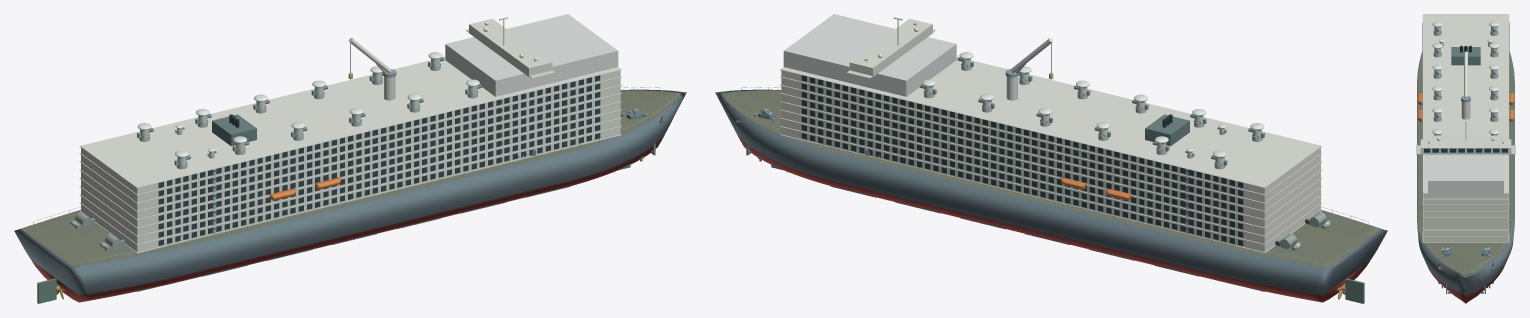
File: ocean-drover.lod1.glb
The picture shows the model from 3 angles, left to right: view 1: azimuth 30°, elevation 25°; view 2: azimuth 150°, elevation 25°; view 3: azimuth 270°, elevation 25°; orthographic projection. The views are drawn at different scales.
Parts seen in each view (by area): view 1: ocean-drover.accommodation.superstructure.deck-8-enclosure.1, ocean-drover.structure.hull.outer-hull-shell.1, ocean-drover.accommodation.livestock-bridge.forward-accommod, ocean-drover.structure.decks.main-strength-deck.1, ocean-drover.structure.hull.antifouling-underwater-shell.1, ocean-drover.accommodation.superstructure.deck-5-enclosure.1, ocean-drover.accommodation.superstructure.deck-2-enclosure.1, ocean-drover.accommodation.superstructure.deck-6-enclosure.1, ocean-drover.accommodation.superstructure.deck-7-enclosure.1, ocean-drover.accommodation.superstructure.deck-1-enclosure.1, ocean-drover.accommodation.superstructure.deck-4-enclosure.1, ocean-drover.accommodation.superstructure.deck-3-enclosure.1 (+11 smaller); view 2: ocean-drover.accommodation.superstructure.deck-8-enclosure.1, ocean-drover.structure.hull.outer-hull-shell.1, ocean-drover.accommodation.livestock-bridge.forward-accommod, ocean-drover.structure.decks.main-strength-deck.1, ocean-drover.structure.hull.antifouling-underwater-shell.1, ocean-drover.accommodation.superstructure.deck-5-enclosure.1, ocean-drover.accommodation.superstructure.deck-2-enclosure.1, ocean-drover.accommodation.superstructure.deck-6-enclosure.1, ocean-drover.accommodation.superstructure.deck-7-enclosure.1, ocean-drover.accommodation.superstructure.deck-1-enclosure.1, ocean-drover.accommodation.superstructure.deck-4-enclosure.1, ocean-drover.accommodation.superstructure.deck-3-enclosure.1 (+11 smaller); view 3: ocean-drover.accommodation.superstructure.deck-8-enclosure.1, ocean-drover.accommodation.livestock-bridge.forward-accommod, ocean-drover.structure.decks.main-strength-deck.1, ocean-drover.structure.hull.outer-hull-shell.1, ocean-drover.navigation.bridge.wheelhouse.1, ocean-drover.accommodation.superstructure.superstructure-wea, ocean-drover.accommodation.superstructure.deck-1-enclosure.1, ocean-drover.accommodation.superstructure.deck-5-enclosure.1, ocean-drover.accommodation.superstructure.deck-2-enclosure.1, ocean-drover.accommodation.superstructure.deck-3-enclosure.1, ocean-drover.accommodation.superstructure.deck-4-enclosure.1, ocean-drover.accommodation.superstructure.deck-6-enclosure.1 (+12 smaller).
Part boxes in pixels (<box>): ocean-drover.accommodation.superstructure.deck-8-enclosure.1: <box>81,57,620,194</box>; ocean-drover.structure.hull.outer-hull-shell.1: <box>14,89,686,295</box>; ocean-drover.accommodation.livestock-bridge.forward-accommod: <box>445,14,618,96</box>; ocean-drover.structure.decks.main-strength-deck.1: <box>21,90,680,267</box>; ocean-drover.structure.hull.antifouling-underwater-shell.1: <box>32,135,664,302</box>; ocean-drover.accommodation.superstructure.deck-5-enclosure.1: <box>81,94,620,219</box>; ocean-drover.accommodation.superstructure.deck-2-enclosure.1: <box>81,119,620,243</box>; ocean-drover.accommodation.superstructure.deck-6-enclosure.1: <box>81,86,620,210</box>; ocean-drover.accommodation.superstructure.deck-7-enclosure.1: <box>81,78,620,202</box>; ocean-drover.accommodation.superstructure.deck-1-enclosure.1: <box>81,127,620,252</box>; ocean-drover.accommodation.superstructure.deck-4-enclosure.1: <box>81,102,620,227</box>; ocean-drover.accommodation.superstructure.deck-3-enclosure.1: <box>81,111,620,235</box>; ocean-drover.accommodation.superstructure.deck-8-enclosure.1: <box>781,57,1320,194</box>; ocean-drover.structure.hull.outer-hull-shell.1: <box>715,89,1387,295</box>; ocean-drover.accommodation.livestock-bridge.forward-accommod: <box>783,14,956,96</box>; ocean-drover.structure.decks.main-strength-deck.1: <box>721,90,1380,267</box>; ocean-drover.structure.hull.antifouling-underwater-shell.1: <box>737,135,1369,302</box>; ocean-drover.accommodation.superstructure.deck-5-enclosure.1: <box>781,94,1320,219</box>; ocean-drover.accommodation.superstructure.deck-2-enclosure.1: <box>781,119,1320,243</box>; ocean-drover.accommodation.superstructure.deck-6-enclosure.1: <box>781,86,1320,210</box>; ocean-drover.accommodation.superstructure.deck-7-enclosure.1: <box>781,78,1320,202</box>; ocean-drover.accommodation.superstructure.deck-1-enclosure.1: <box>781,127,1320,252</box>; ocean-drover.accommodation.superstructure.deck-4-enclosure.1: <box>781,102,1320,227</box>; ocean-drover.accommodation.superstructure.deck-3-enclosure.1: <box>781,111,1320,235</box>; ocean-drover.accommodation.superstructure.deck-8-enclosure.1: <box>1423,14,1508,198</box>; ocean-drover.accommodation.livestock-bridge.forward-accommod: <box>1428,135,1503,193</box>; ocean-drover.structure.decks.main-strength-deck.1: <box>1418,56,1513,275</box>; ocean-drover.structure.hull.outer-hull-shell.1: <box>1417,52,1514,294</box>; ocean-drover.navigation.bridge.wheelhouse.1: <box>1420,139,1511,154</box>; ocean-drover.accommodation.superstructure.superstructure-wea: <box>1422,14,1509,193</box>; ocean-drover.accommodation.superstructure.deck-1-enclosure.1: <box>1423,236,1508,242</box>; ocean-drover.accommodation.superstructure.deck-5-enclosure.1: <box>1423,211,1508,217</box>; ocean-drover.accommodation.superstructure.deck-2-enclosure.1: <box>1423,230,1508,235</box>; ocean-drover.accommodation.superstructure.deck-3-enclosure.1: <box>1423,224,1508,229</box>; ocean-drover.accommodation.superstructure.deck-4-enclosure.1: <box>1423,218,1508,223</box>; ocean-drover.accommodation.superstructure.deck-6-enclosure.1: <box>1423,205,1508,210</box>.
Size of the model in its own units: 181 by 50.22 by 31.82.
